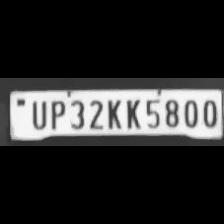0: (181, 96, 199, 128), (200, 97, 218, 127)
2: (85, 97, 103, 129)
3: (66, 97, 84, 129)
5: (142, 96, 160, 128)
8: (162, 96, 180, 128)
K: (122, 96, 142, 130), (103, 97, 121, 129)
P: (46, 98, 66, 130)
U: (28, 98, 46, 130)
